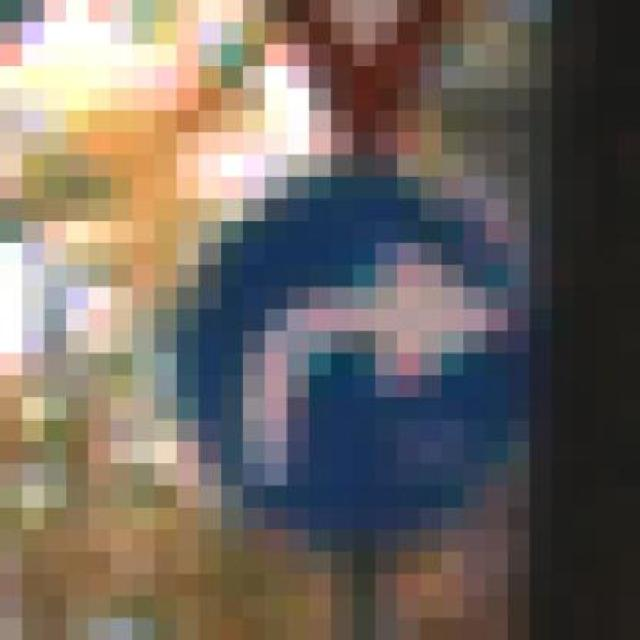Turn right ahead: (154, 111, 552, 574)
